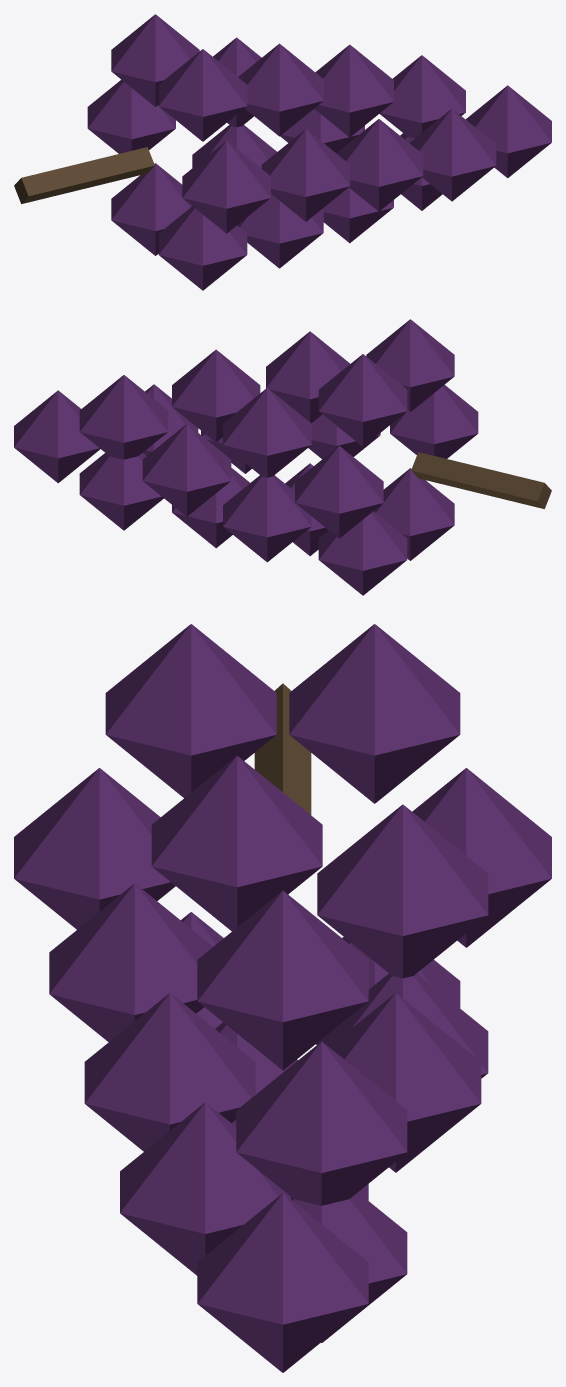
The model's file is FD_Grapes_Purple_01.glb.
3 views of the same model, one above another, from view 1: azimuth 30°, elevation 25°; view 2: azimuth 150°, elevation 25°; view 3: azimuth 270°, elevation 25° (orthographic). The views are drawn at different scales.
Visible parts, largest first — view 1: FD_Grapes_Purple_01; view 2: FD_Grapes_Purple_01; view 3: FD_Grapes_Purple_01.
Boxes of the visible parts, left/top/right/bottom form: FD_Grapes_Purple_01: left=14, top=14, right=551, bottom=290; FD_Grapes_Purple_01: left=14, top=319, right=551, bottom=595; FD_Grapes_Purple_01: left=14, top=624, right=551, bottom=1372.
Bounding box in the file's own units: 0.168 × 0.0765 × 0.0762.
Materials: 1 (1 with a texture image).
